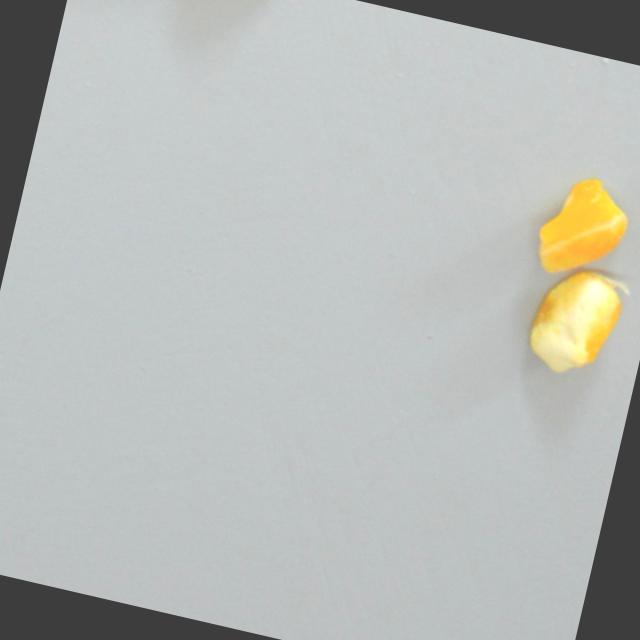pelicula: (507, 251, 640, 390), (514, 168, 640, 307)
